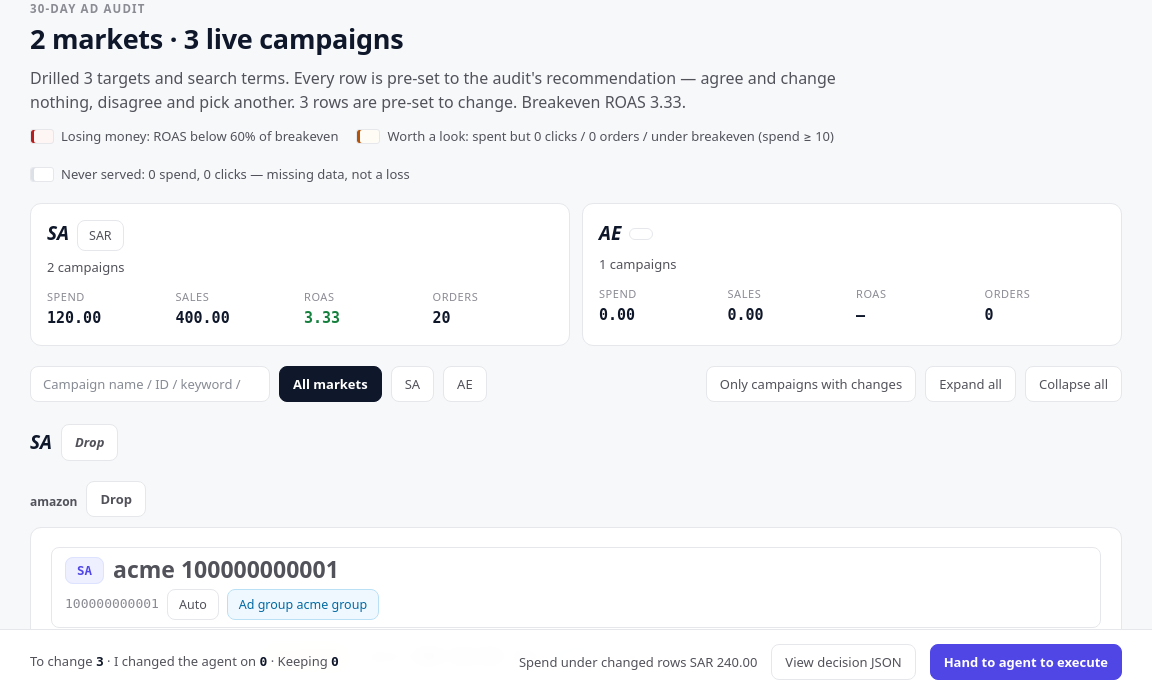
Test: a bid move must say how much › clearing the field re-blocks submission
Click the button that starts with "acme 100000000001": (85, 570) [51,547,1101,628]
(page scrolled)
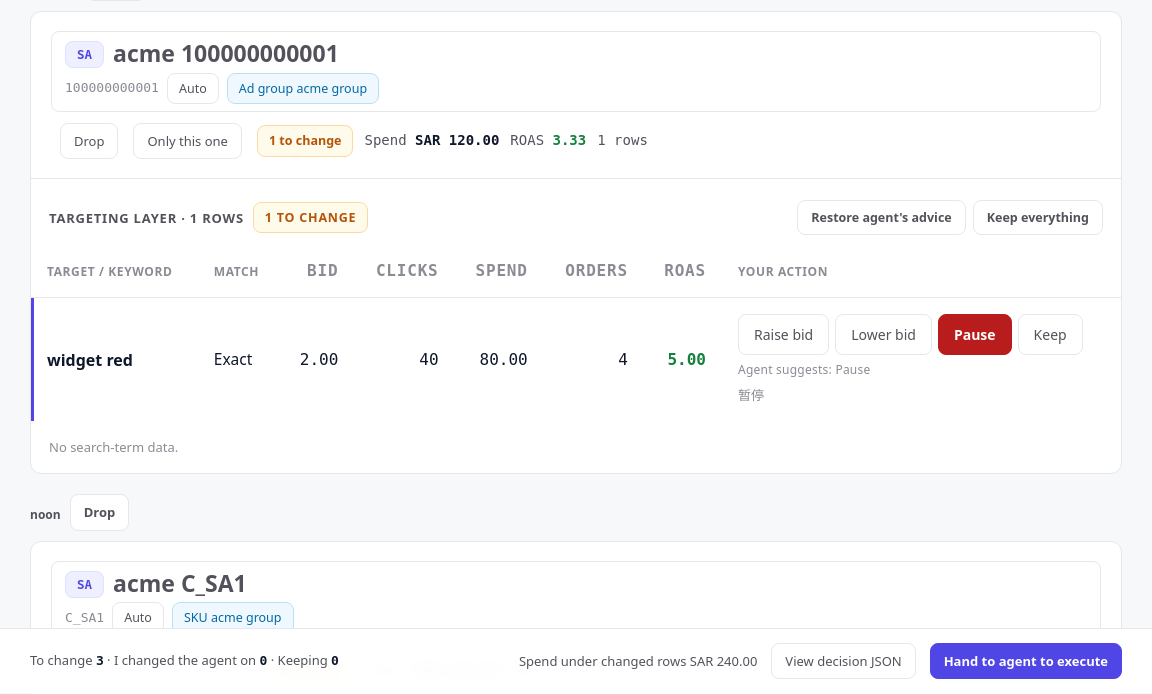
Click the button "Raise bid": (784, 335) [738,314,829,355]
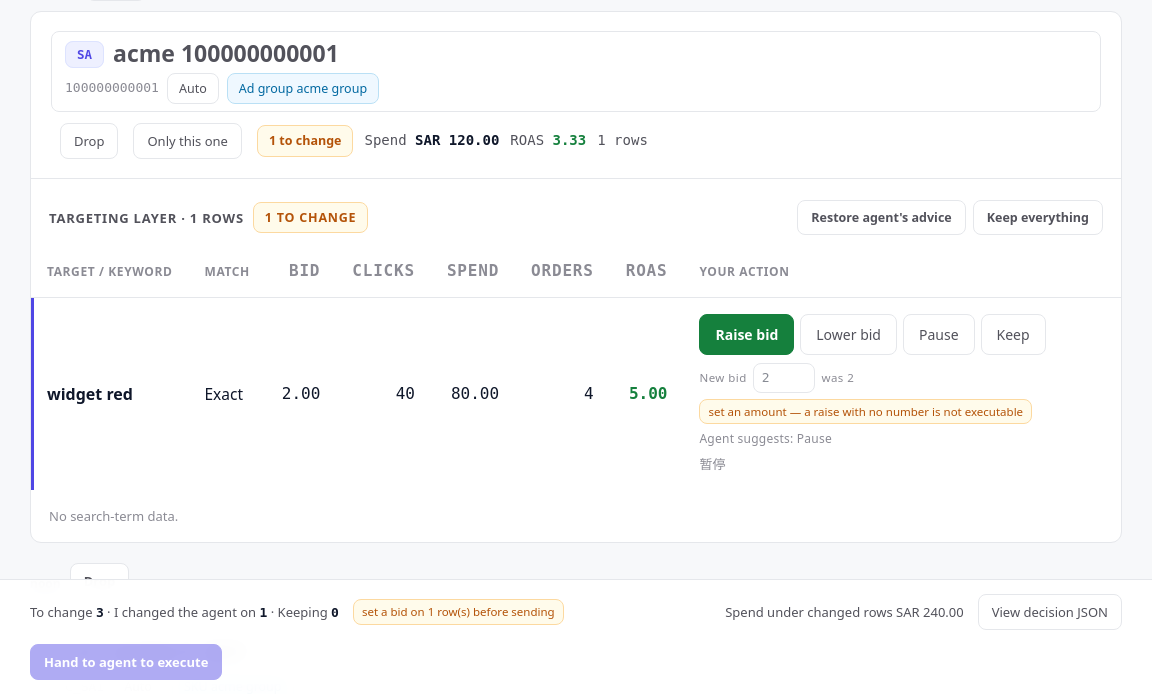
In the number field named "New bid": (784, 378) [753,363,815,393], type "2.90"
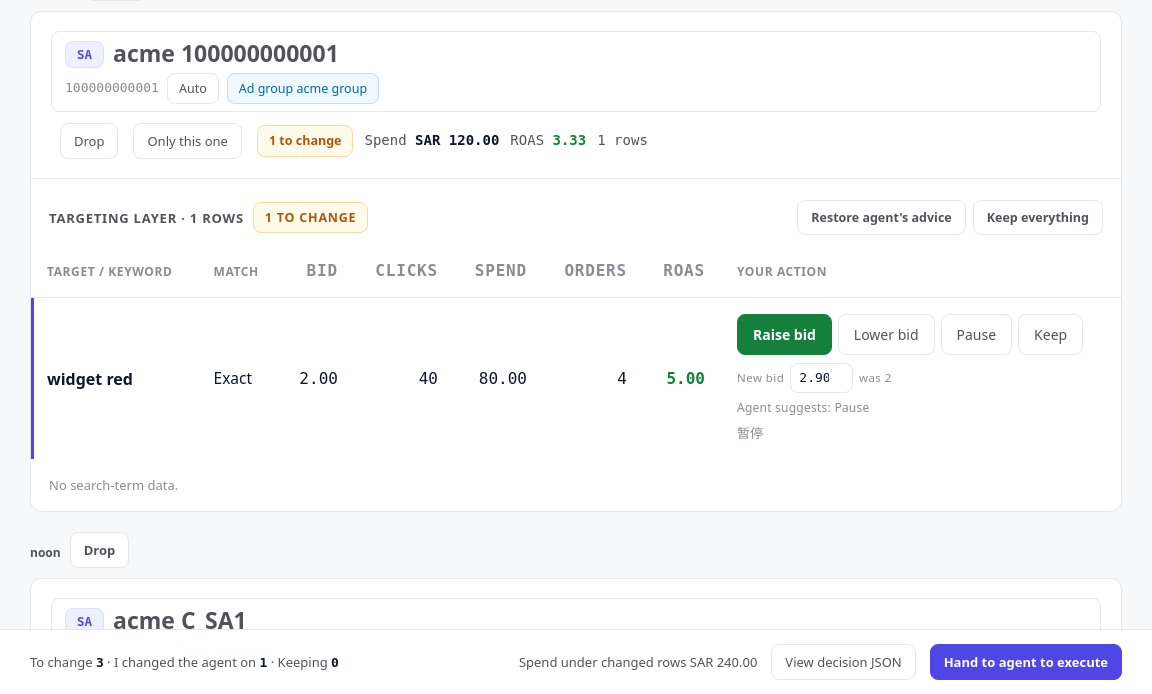
Expected: the button "Hand to agent to execute" is enabled, [930,644,1122,680]
Clear the number field named "New bid": (822, 378) [790,363,853,393]
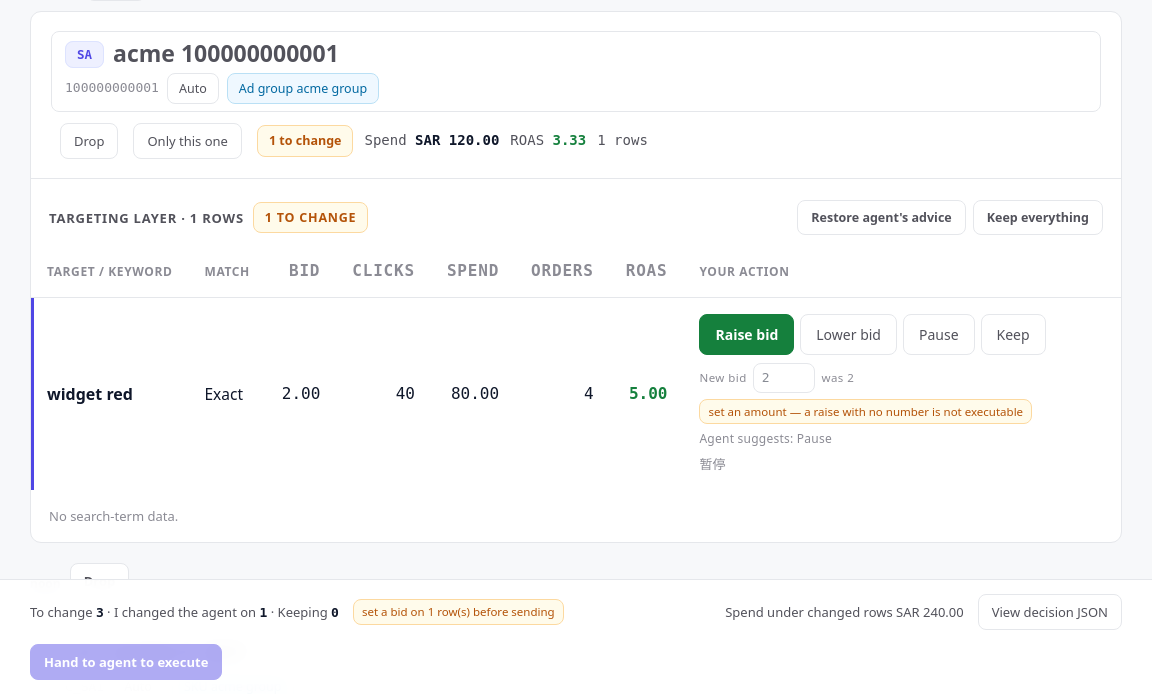
Expected: the button "Hand to agent to execute" is disabled, [30,644,222,680]
